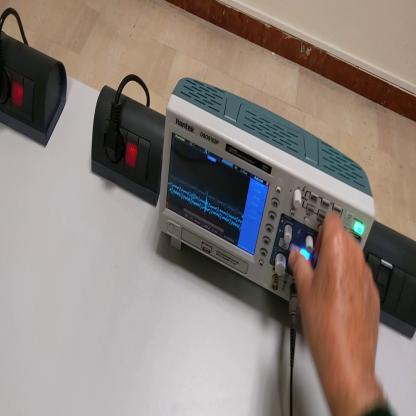hand: (291, 212, 385, 395)
oscilloscope: (159, 76, 377, 309)
socket: (89, 83, 167, 210), (1, 29, 69, 148)
